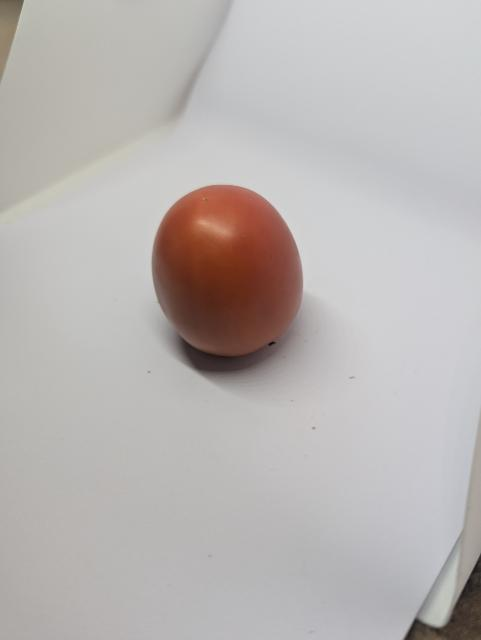red: (141, 179, 324, 372)
